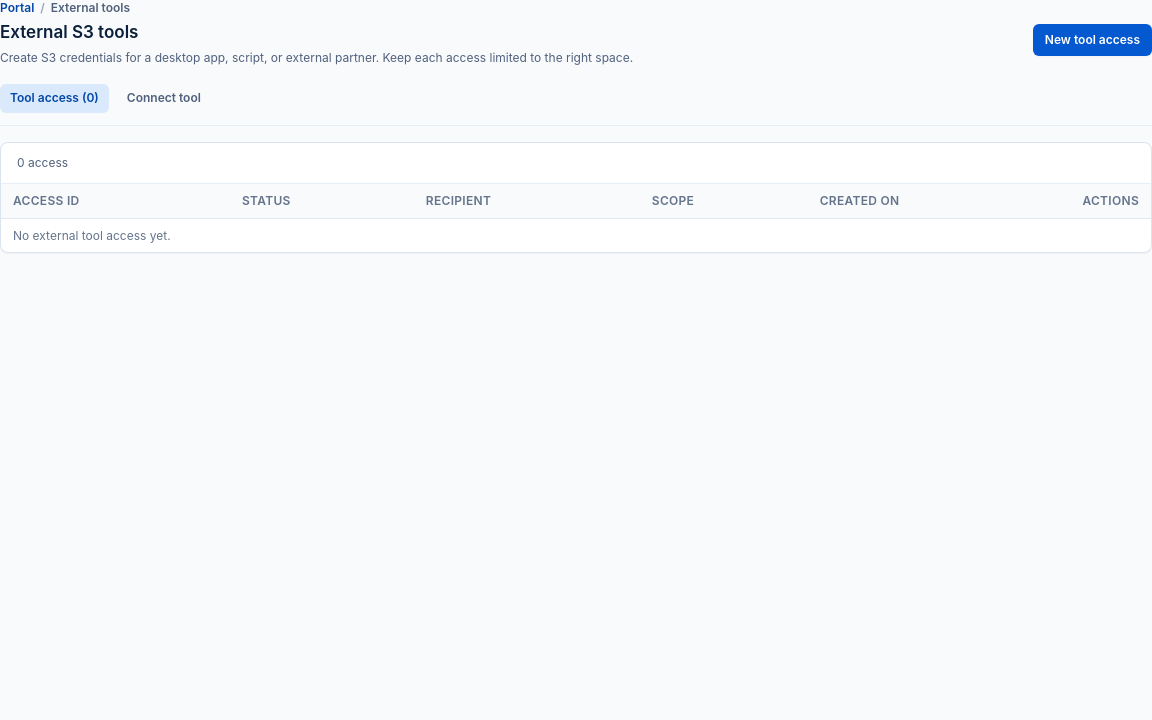
Scenario: PortalAccessKeysPage › shows an actionable empty state when no active tool access exists
The image size is (1152, 720).
Click the tab "Connect tool".
click(164, 98)  # box 117,84 -> 211,112
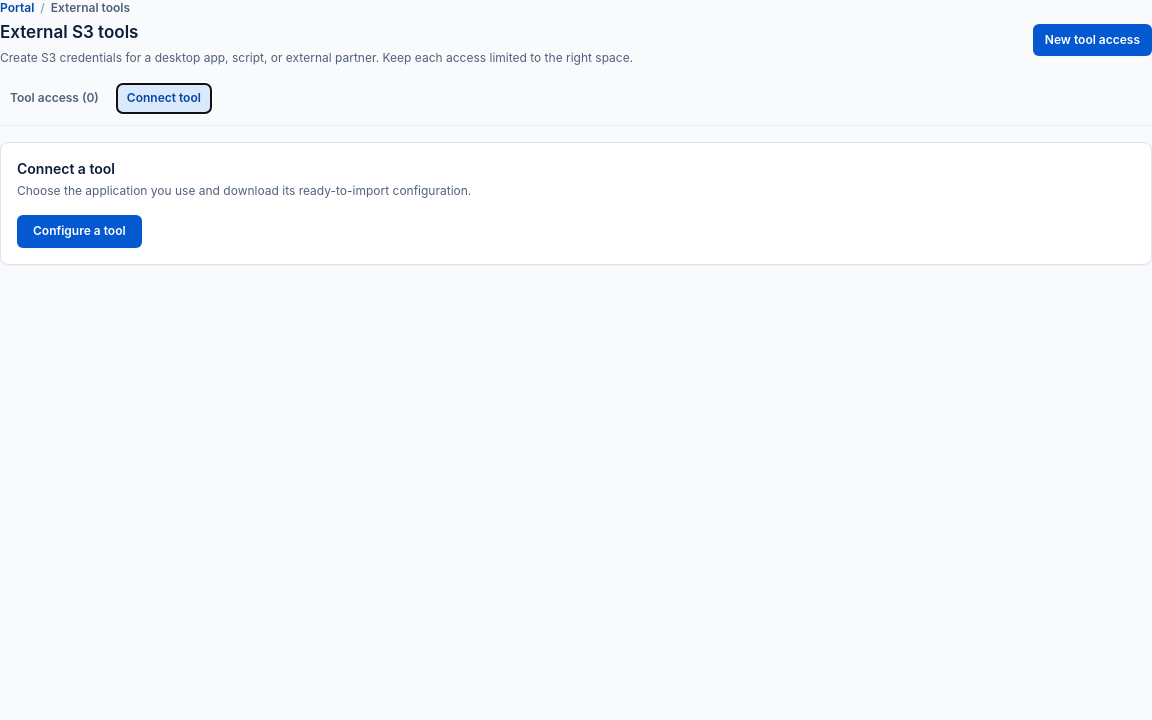
Click the button "Configure a tool".
click(79, 231)  # box 17,215 -> 142,248
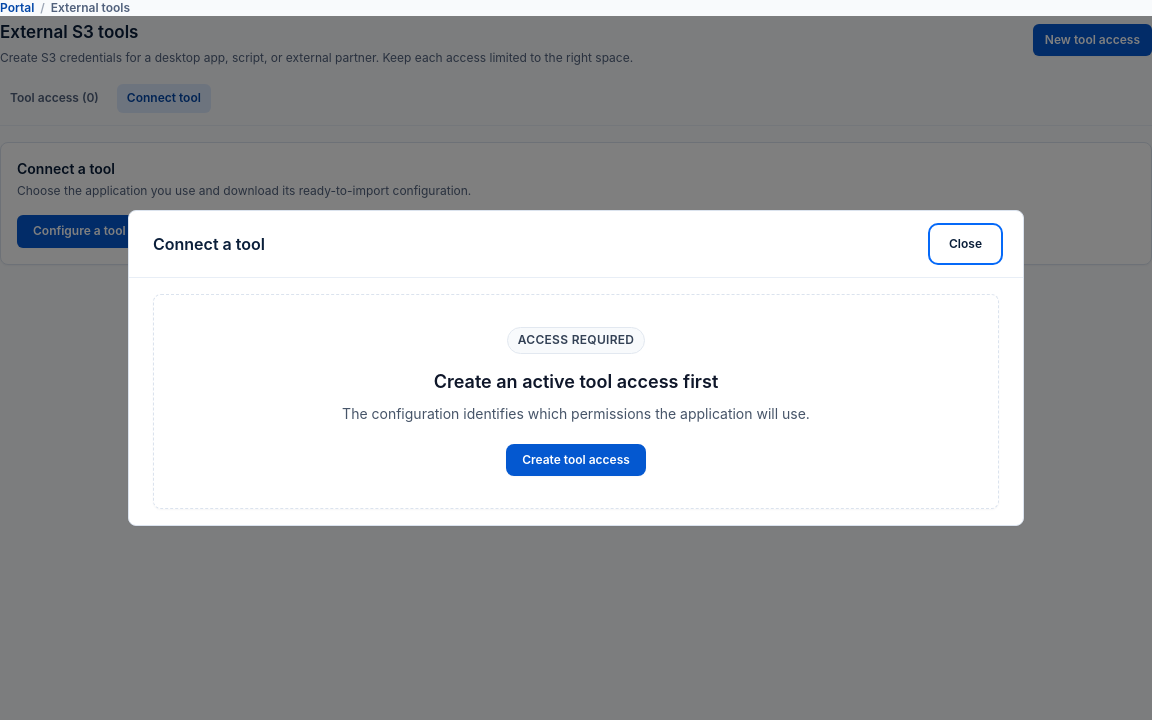
Check: the heading "Create an active tool access first" is shown, box 434,371 -> 718,392
Click the button "Create tool access".
click(576, 460)  # box 506,444 -> 646,476
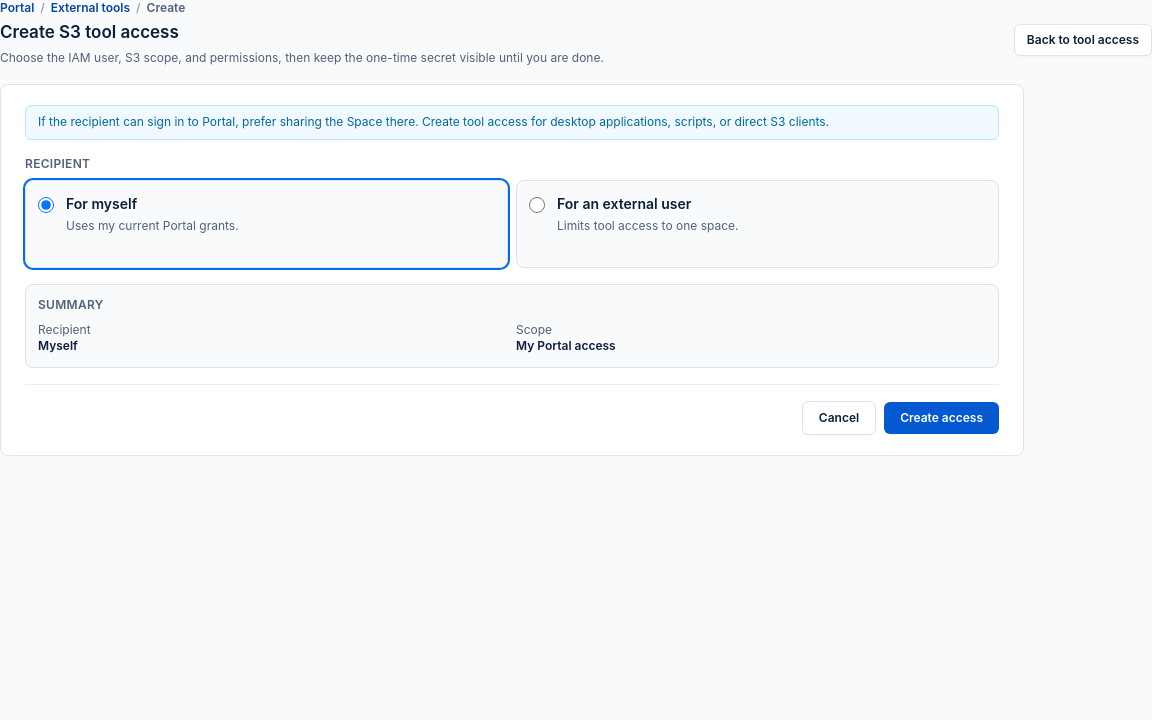
Check: the text "prefer sharing the Space there" is shown, box 38,114 -> 829,129
